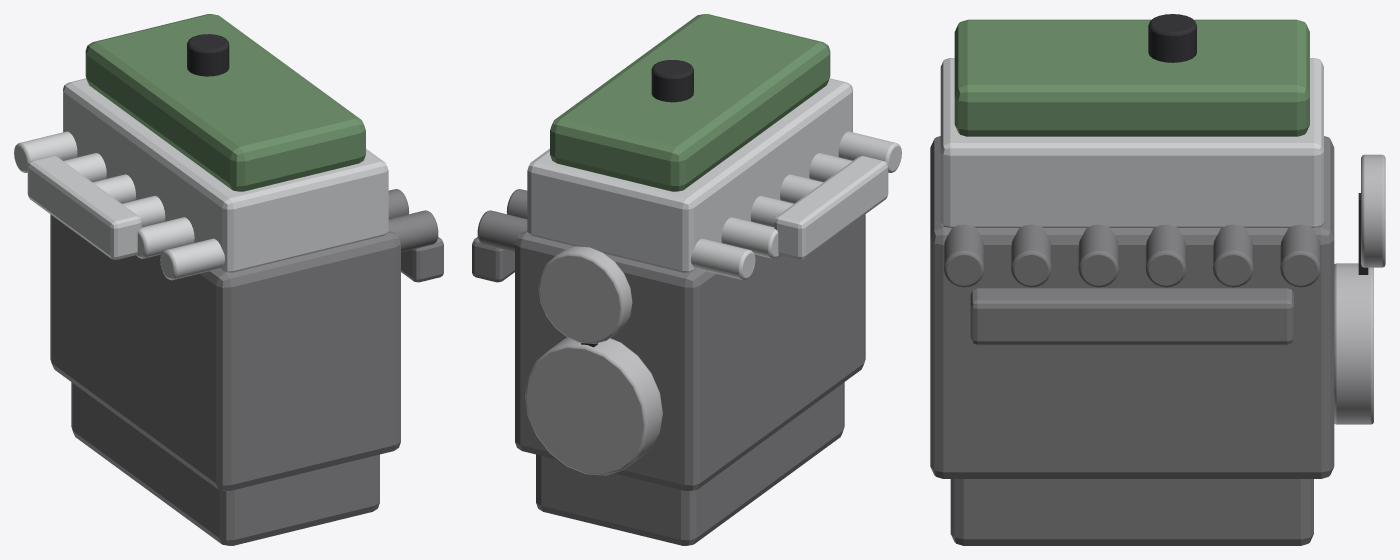
File: engine_diesel.glb
3 views of the same model, side by side, from view 1: azimuth 30°, elevation 25°; view 2: azimuth 150°, elevation 25°; view 3: azimuth 270°, elevation 25° (orthographic). The views are drawn at different scales.
Parts seen in each view (by area): view 1: engine_diesel; view 2: engine_diesel; view 3: engine_diesel.
Part boxes in pixels (bbox=[...]): engine_diesel: bbox=[14, 14, 443, 545]; engine_diesel: bbox=[472, 14, 901, 545]; engine_diesel: bbox=[930, 14, 1385, 545].
Bounding box in the file's own units: 0.625 × 0.8188 × 0.6988.
